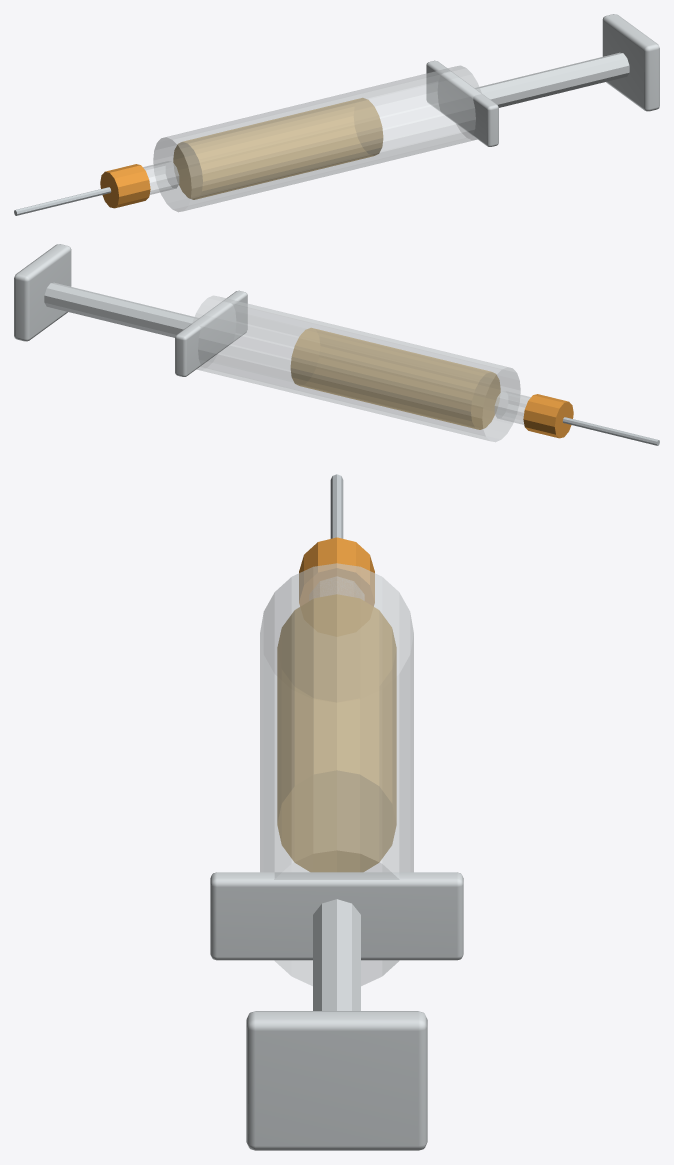
Rendered from syringe.fbx.
3 renders of one model, top to bottom at view 1: azimuth 30°, elevation 25°; view 2: azimuth 150°, elevation 25°; view 3: azimuth 270°, elevation 25°, orthographic. The views are drawn at different scales.
Parts seen in each view (by area): view 1: EQ_syringe_Body, EQ_syringe_Fluid, EQ_syringe_Plunger, EQ_syringe_Thumb, EQ_syringe_Flange, EQ_syringe_NeedleHub, EQ_syringe_Tip, EQ_syringe_Needle; view 2: EQ_syringe_Body, EQ_syringe_Fluid, EQ_syringe_Plunger, EQ_syringe_Thumb, EQ_syringe_Flange, EQ_syringe_NeedleHub, EQ_syringe_Tip, EQ_syringe_Needle; view 3: EQ_syringe_Body, EQ_syringe_Fluid, EQ_syringe_Thumb, EQ_syringe_Flange, EQ_syringe_Plunger, EQ_syringe_NeedleHub.
Boxes of the visible parts, x1=… form: EQ_syringe_Body: x1=153, y1=65, x2=481, y2=212; EQ_syringe_Fluid: x1=173, y1=98, x2=383, y2=199; EQ_syringe_Plunger: x1=475, y1=52, x2=629, y2=107; EQ_syringe_Thumb: x1=602, y1=14, x2=659, y2=111; EQ_syringe_Flange: x1=426, y1=60, x2=498, y2=146; EQ_syringe_NeedleHub: x1=100, y1=164, x2=150, y2=208; EQ_syringe_Tip: x1=143, y1=161, x2=179, y2=194; EQ_syringe_Needle: x1=14, y1=187, x2=111, y2=215; EQ_syringe_Body: x1=192, y1=295, x2=520, y2=442; EQ_syringe_Fluid: x1=290, y1=328, x2=500, y2=429; EQ_syringe_Plunger: x1=44, y1=282, x2=198, y2=337; EQ_syringe_Thumb: x1=14, y1=244, x2=71, y2=341; EQ_syringe_Flange: x1=175, y1=290, x2=247, y2=376; EQ_syringe_NeedleHub: x1=523, y1=394, x2=573, y2=438; EQ_syringe_Tip: x1=494, y1=391, x2=530, y2=424; EQ_syringe_Needle: x1=562, y1=417, x2=659, y2=445; EQ_syringe_Body: x1=260, y1=563, x2=413, y2=985; EQ_syringe_Fluid: x1=277, y1=594, x2=396, y2=872; EQ_syringe_Thumb: x1=246, y1=1011, x2=427, y2=1150; EQ_syringe_Flange: x1=210, y1=872, x2=463, y2=960; EQ_syringe_Plunger: x1=313, y1=899, x2=360, y2=1010; EQ_syringe_NeedleHub: x1=299, y1=537, x2=374, y2=606.
Bounding box in the file's own units: 0.159 × 0.017 × 0.028.
